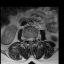CCS_stenosis: (30, 35, 32, 43)
LFS_normal: (33, 35, 35, 42)
LLS_normal: (32, 35, 33, 42)
RFS_normal: (25, 36, 27, 42)
RLS_normal: (27, 36, 30, 43)
